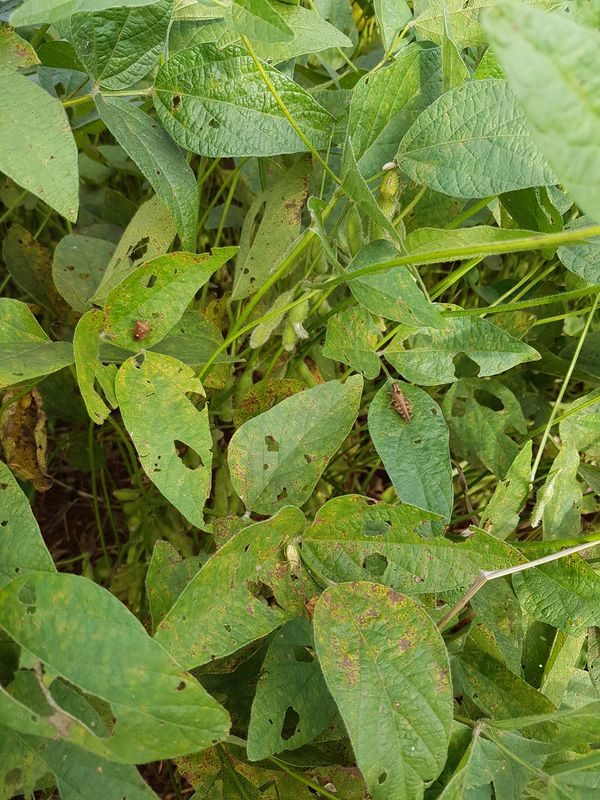Euschistus_heros_adulto: (124, 314, 157, 348)
Euschistus_heros_ninfa: (276, 541, 307, 577)
Nezara_viridula_ninfa: (377, 170, 407, 202)
Rhammatocerus_schistocercoides: (380, 378, 421, 431)
